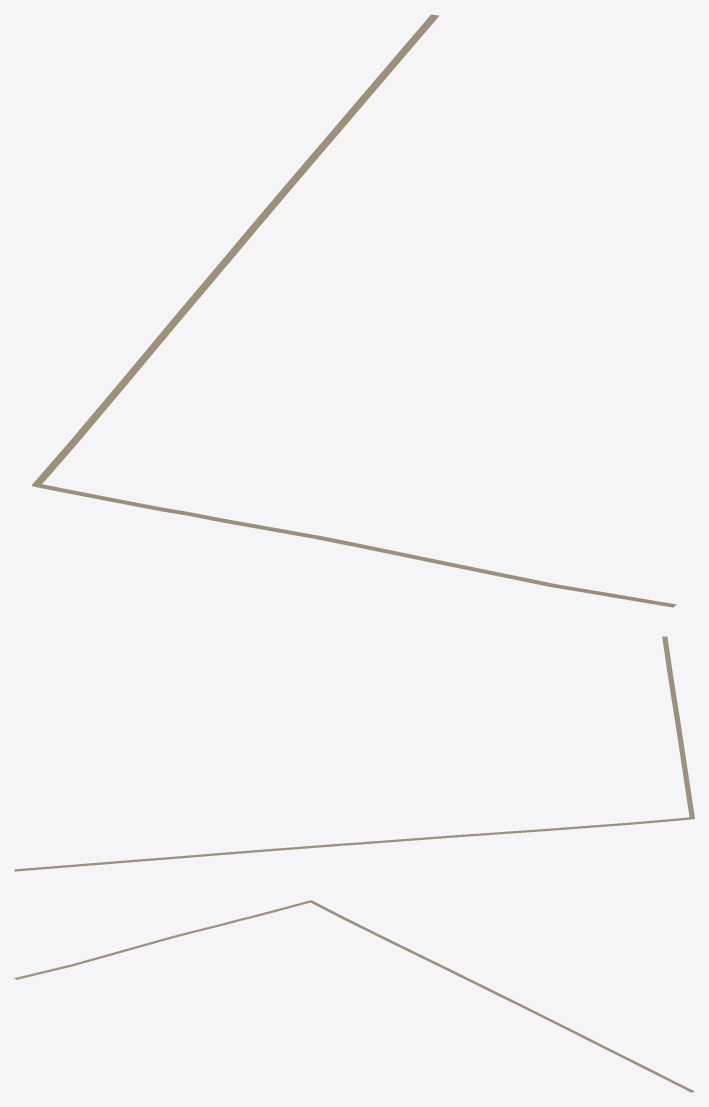
Rendered from farm_2_6_track.glb.
3 renders of one model, top to bottom at view 1: azimuth 30°, elevation 25°; view 2: azimuth 150°, elevation 25°; view 3: azimuth 270°, elevation 25°, orthographic. The views are drawn at different scales.
Parts seen in each view (by area): view 1: geometry_0; view 2: geometry_0; view 3: geometry_0.
Boxes of the visible parts, left/top/right/bottom form: geometry_0: left=32, top=14, right=676, bottom=607; geometry_0: left=14, top=636, right=694, bottom=871; geometry_0: left=14, top=900, right=694, bottom=1092.
Bounding box in the file's own units: 331 × 5.29 × 496.
